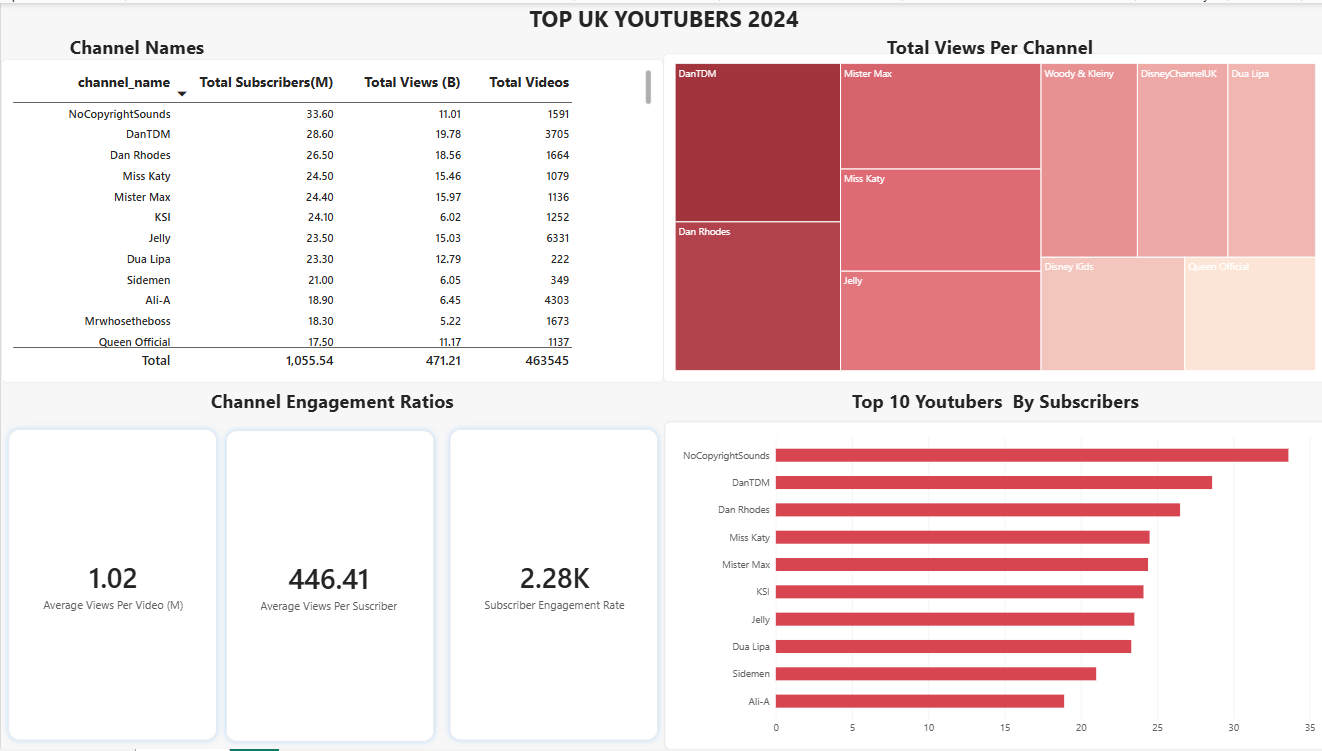

What the dashboard file says about the page in this screenshot:
{"tool":"powerbi","page":{"name":"Page 1","canvas":[1920,1080],"ordinal":0},"visuals":[{"type":"clusteredBarChart","fields":{"Category":["view_uk_youtubers_2024.channel_name"],"Y":["Sum(view_uk_youtubers_2024.Total Subscribers(M))"]},"box":[961,605.7,959,474.4],"z":0},{"type":"treemap","fields":{"Group":["view_uk_youtubers_2024.channel_name"],"Values":["Sum(view_uk_youtubers_2024.Total Views (B))"]},"box":[959,72.7,961,476.5],"z":1000},{"type":"textbox","box":[0,44.4,393.7,56.5],"z":2000},{"type":"textbox","box":[959,44.4,944.9,36.3],"z":3000},{"type":"textbox","box":[0,539.1,959,66.6],"z":4000},{"type":"textbox","box":[99.5,387.3,293.2,12.7],"z":5000},{"type":"textbox","box":[959,539.1,961,66.6],"z":6000},{"type":"textbox","box":[0,0,1920,44.4],"z":7000},{"type":"tableEx","fields":{"Values":["view_uk_youtubers_2024.channel_name","Sum(view_uk_youtubers_2024.Total Subscribers(M))","Sum(view_uk_youtubers_2024.Total Views (B))","view_uk_youtubers_2024.Total Videos"]},"box":[0,80.8,959,468.4],"z":8000},{"type":"cardVisual","fields":{"Data":["view_uk_youtubers_2024.Average Views Per Video (M)"]},"box":[0,605.7,323,472],"z":9000},{"type":"cardVisual","fields":{"Data":["view_uk_youtubers_2024.Average Views Per Suscriber"]},"box":[315,607.7,323,472.4],"z":10000},{"type":"cardVisual","fields":{"Data":["view_uk_youtubers_2024.Subscriber Engagement Rate"]},"box":[638,605.7,323,472.4],"z":11000}]}

Visuals, with their boxes in screenshot pixels (x1, y1, x2, y2), scaled from the page's 1920x1080 canvas onto the 1322x751 screenshot:
clusteredBarChart - view_uk_youtubers_2024.channel_name x Sum(view_uk_youtubers_2024.Total Subscribers(M)): select_region(662, 421, 1321, 750)
treemap - view_uk_youtubers_2024.channel_name x Sum(view_uk_youtubers_2024.Total Views (B)): select_region(660, 51, 1321, 382)
textbox: select_region(0, 31, 271, 70)
textbox: select_region(660, 31, 1311, 56)
textbox: select_region(0, 375, 660, 421)
textbox: select_region(69, 269, 270, 278)
textbox: select_region(660, 375, 1321, 421)
textbox: select_region(0, 0, 1321, 31)
tableEx - view_uk_youtubers_2024.channel_name x Sum(view_uk_youtubers_2024.Total Subscribers(M)): select_region(0, 56, 660, 382)
cardVisual - view_uk_youtubers_2024.Average Views Per Video (M): select_region(0, 421, 222, 749)
cardVisual - view_uk_youtubers_2024.Average Views Per Suscriber: select_region(217, 423, 439, 750)
cardVisual - view_uk_youtubers_2024.Subscriber Engagement Rate: select_region(439, 421, 662, 750)
